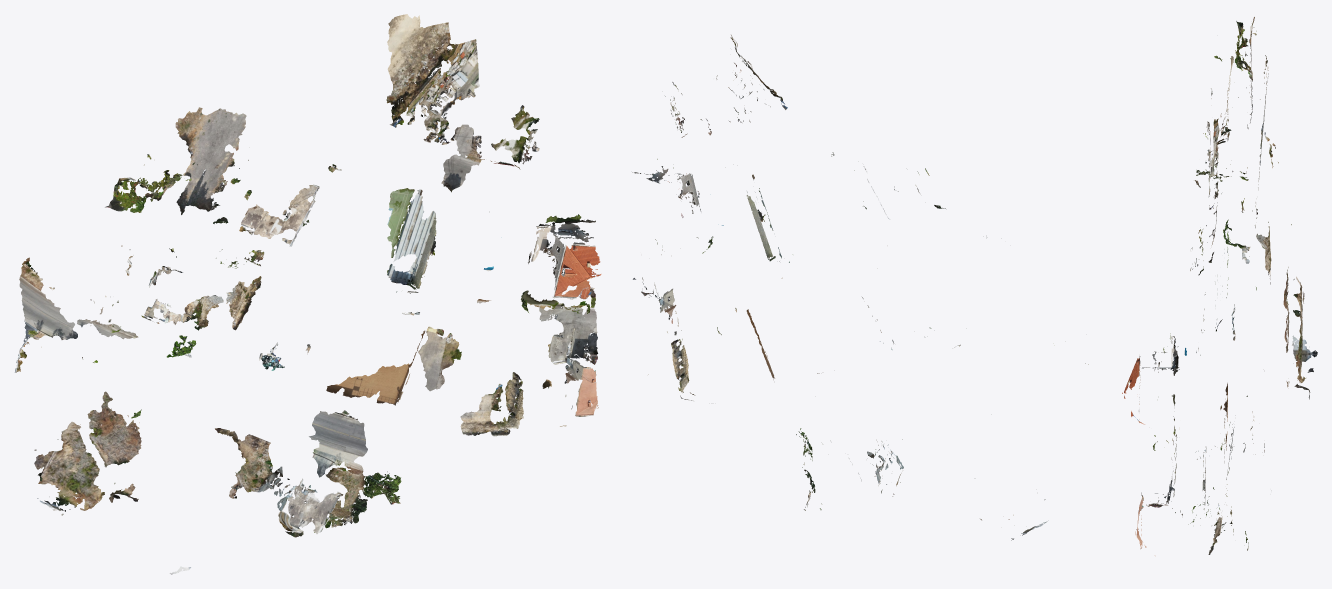
Rendered from tile_2.glb.
The picture shows the model from 3 angles, left to right: view 1: azimuth 30°, elevation 25°; view 2: azimuth 150°, elevation 25°; view 3: azimuth 270°, elevation 25°; orthographic projection. The views are drawn at different scales.
Size of the model in its own units: 168 by 157 by 51.82.
1 material, 1 textured.
